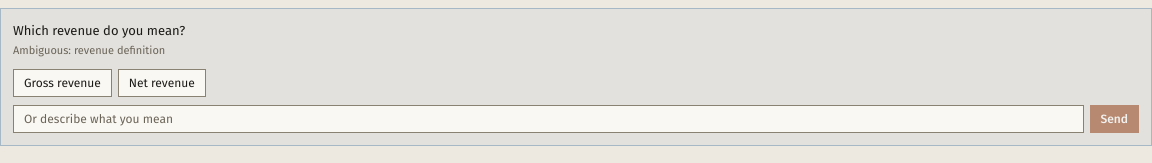
Test: ClarificationPrompt › sends the chosen option once and records the answer in words
The image size is (1152, 163).
Click the button "Net revenue" at [162, 83], box left=118, top=69, right=206, bottom=97
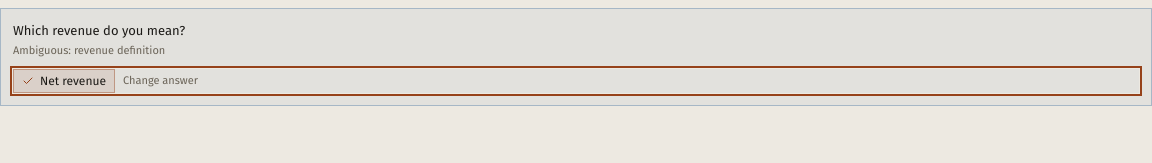
Expected: the text "Net revenue" is shown, left=13, top=69, right=115, bottom=93
Expected: the button "Gross revenue" is gone
